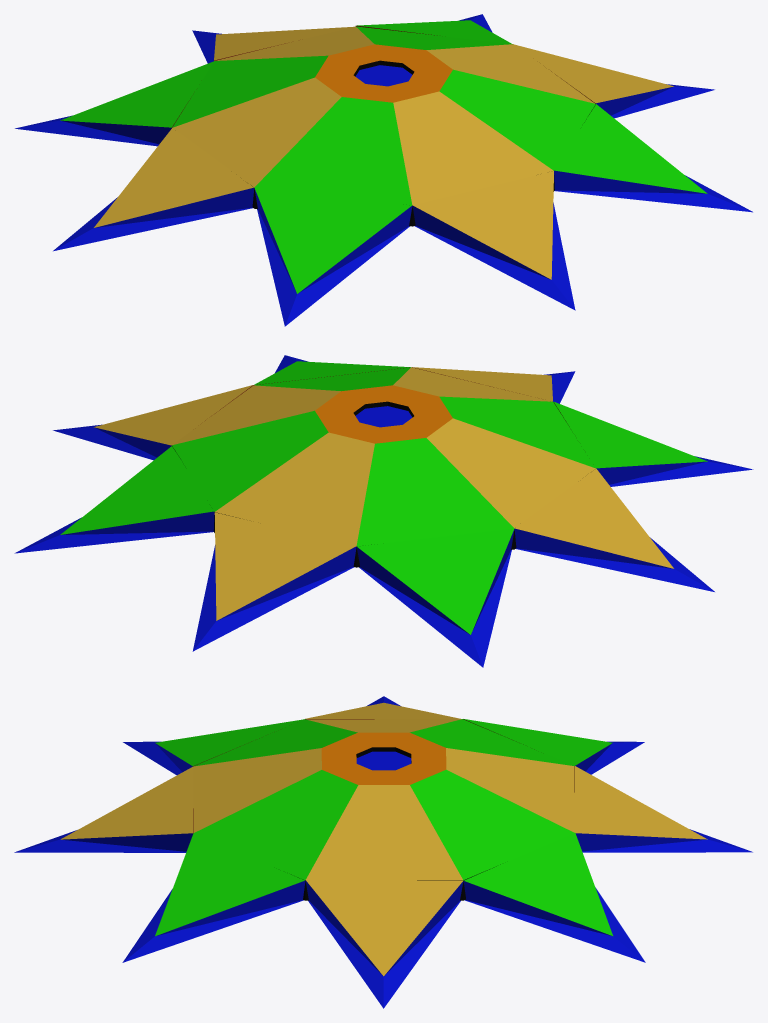
File: spawner5.obj
The picture shows the model from 3 angles, top to bottom: view 1: azimuth 30°, elevation 25°; view 2: azimuth 150°, elevation 25°; view 3: azimuth 270°, elevation 25°; orthographic projection. The views are drawn at different scales.
Visible parts, largest first — view 1: Cone; view 2: Cone; view 3: Cone.
Part boxes in pixels (bbox=[...]): Cone: bbox=[15, 14, 752, 326]; Cone: bbox=[14, 355, 753, 667]; Cone: bbox=[14, 696, 752, 1008].
Bounding box in the file's own units: 1.94 × 0.2709 × 1.94.
